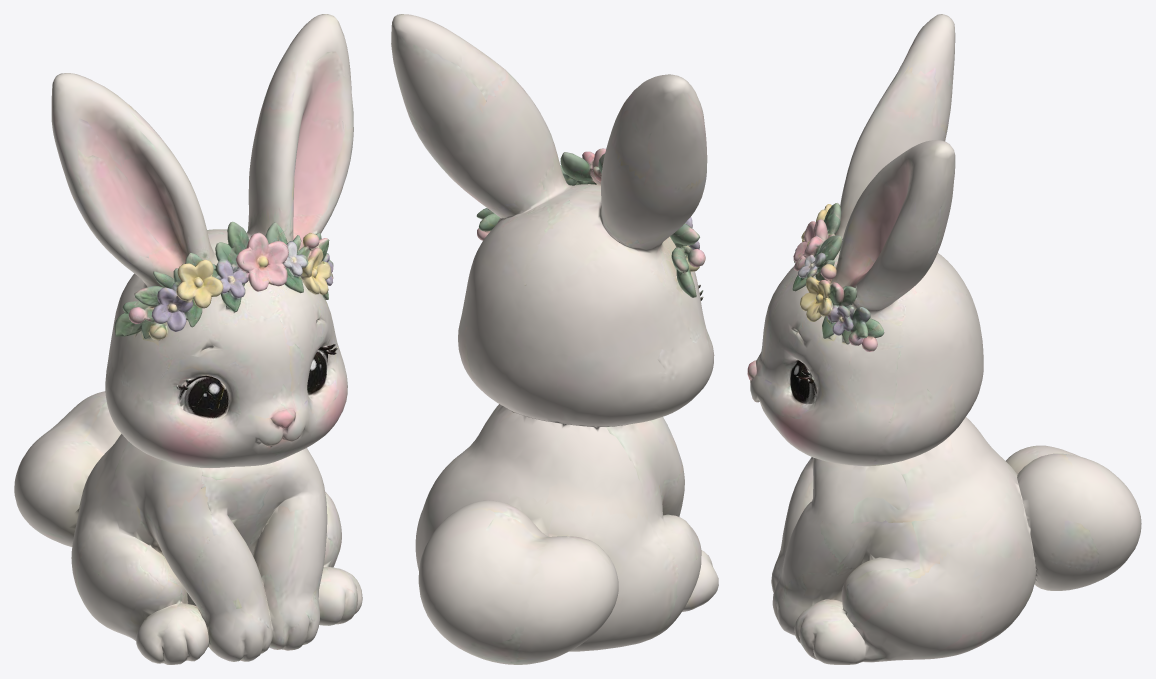
3 renders of one model, left to right at view 1: azimuth 30°, elevation 25°; view 2: azimuth 150°, elevation 25°; view 3: azimuth 270°, elevation 25°, orthographic. The views are drawn at different scales.
Size of the model in its own units: 1.05 by 1.9 by 1.25.
Materials: 1 (1 with a texture image).
